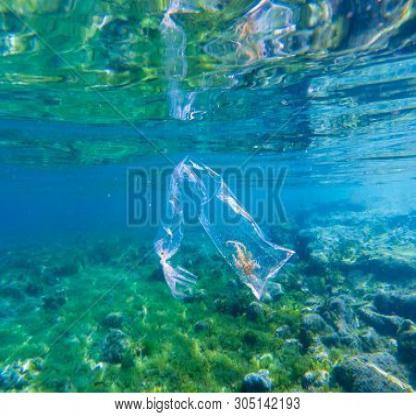waste: (160, 158, 280, 306)
